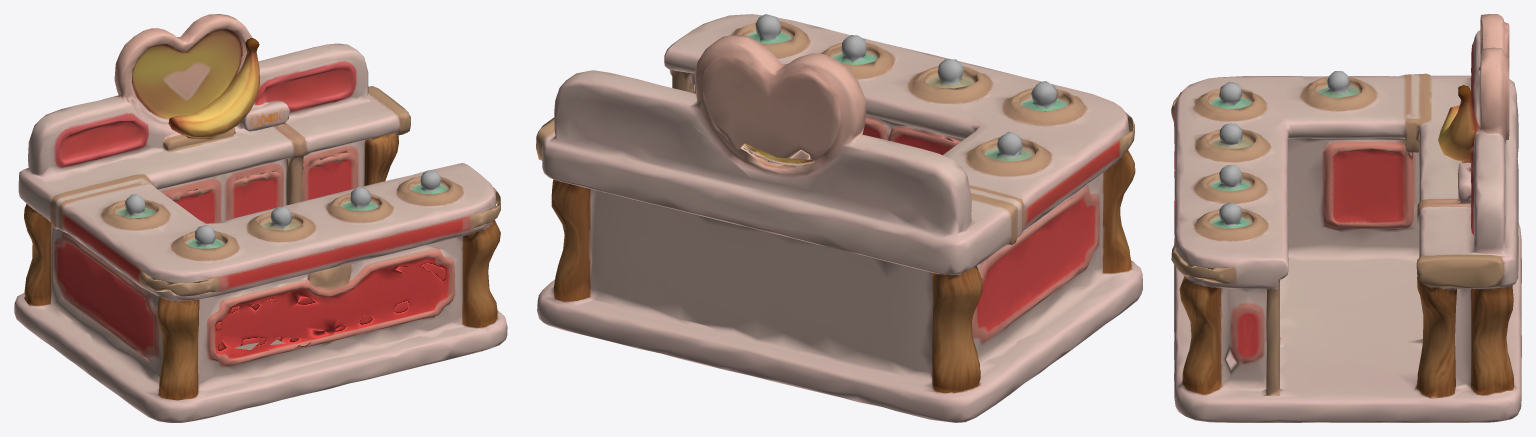
The model's file is int_healing_station.glb.
3 views of the same model, side by side, from view 1: azimuth 30°, elevation 25°; view 2: azimuth 150°, elevation 25°; view 3: azimuth 270°, elevation 25° (orthographic). The views are drawn at different scales.
Visible parts, largest first — view 1: world; view 2: world; view 3: world.
Boxes of the visible parts, bbox=[...] form: world: bbox=[14, 14, 507, 422]; world: bbox=[536, 14, 1142, 422]; world: bbox=[1171, 14, 1521, 422].
Size of the model in its own units: 1 by 0.7028 by 0.7703.
Materials: 1 (1 with a texture image).
